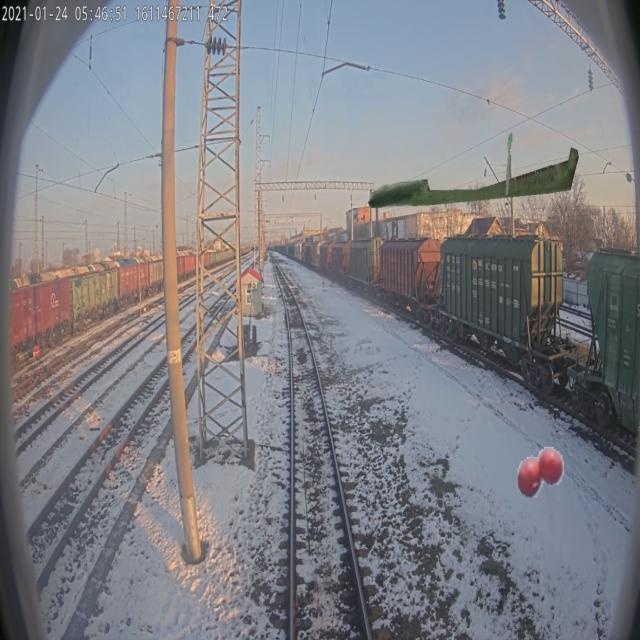balloon: (515, 436, 565, 501)
floating object: (367, 144, 586, 208), (505, 131, 513, 195)
